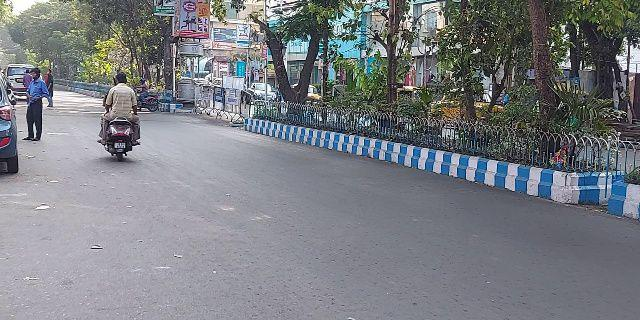Car: (1, 72, 23, 178)
Motorbike: (96, 69, 144, 164)
